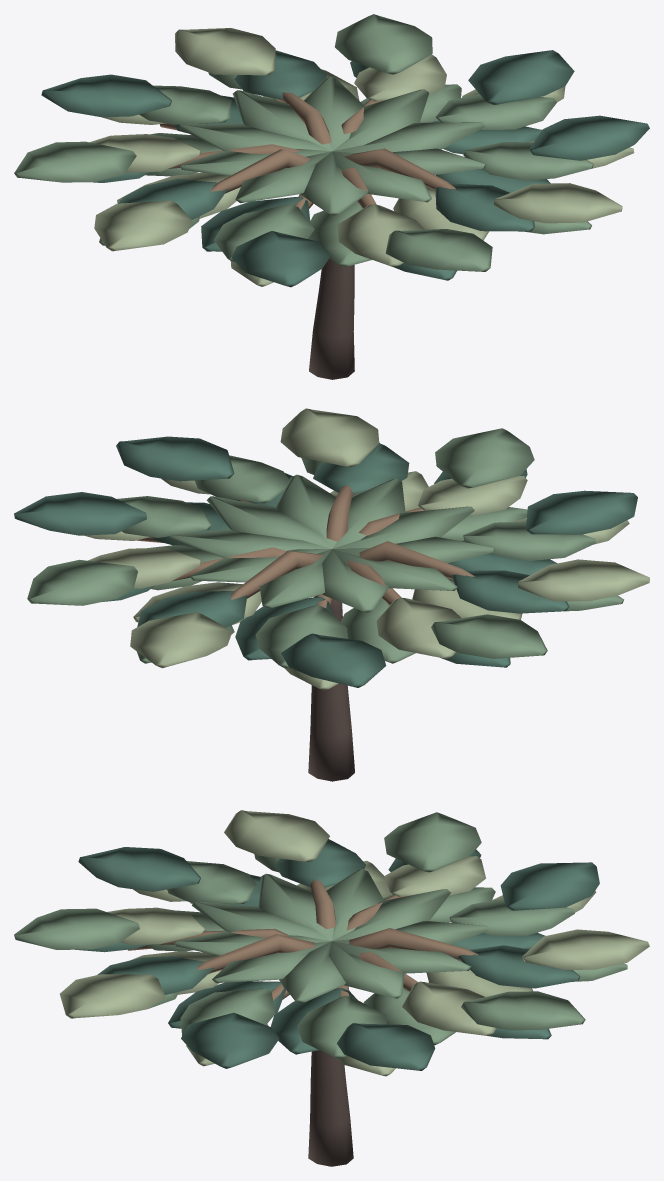
File: tree_cloudbough.glb
3 views of the same model, one above another, from view 1: azimuth 30°, elevation 25°; view 2: azimuth 150°, elevation 25°; view 3: azimuth 270°, elevation 25° (orthographic). The views are drawn at different scales.
Visible parts, largest first — view 1: tree_cloudbough; view 2: tree_cloudbough; view 3: tree_cloudbough.
Boxes of the visible parts, x1=… form: tree_cloudbough: x1=14, y1=14, x2=649, y2=379; tree_cloudbough: x1=14, y1=408, x2=649, y2=781; tree_cloudbough: x1=14, y1=810, x2=649, y2=1166.
Bounding box in the file's own units: 28.25 × 11.8 × 29.29.
